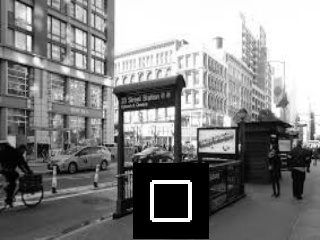square: (133, 163, 209, 238)
